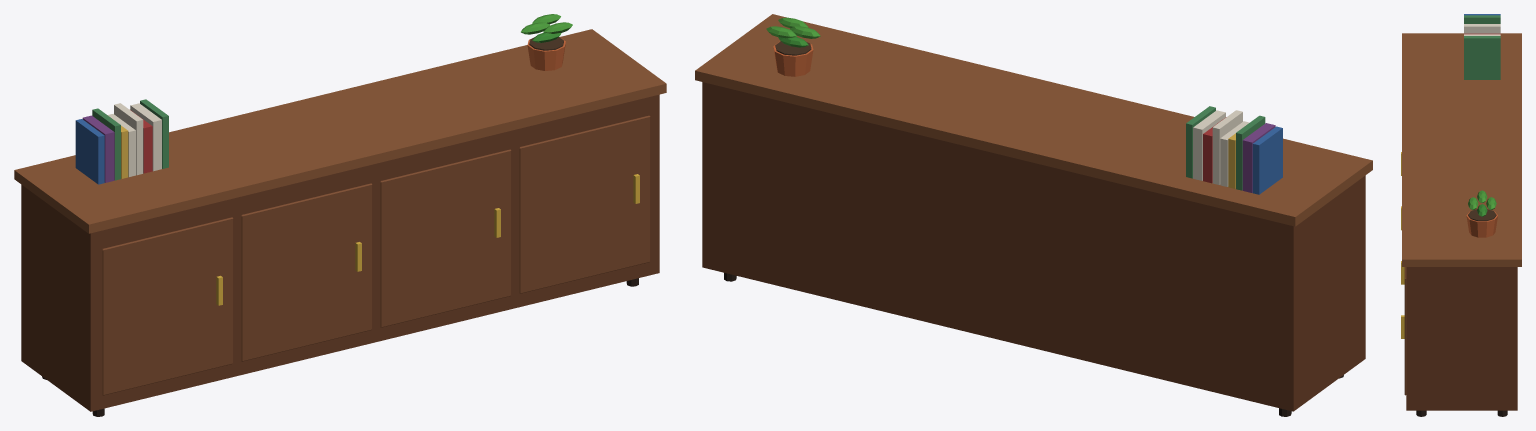
File: sideboard.fbx
The picture shows the model from 3 angles, left to right: view 1: azimuth 30°, elevation 25°; view 2: azimuth 150°, elevation 25°; view 3: azimuth 270°, elevation 25°; orthographic projection. The views are drawn at different scales.
Parts seen in each view (by area): view 1: sideboard; view 2: sideboard; view 3: sideboard.
Part boxes in pixels (box(x1,y1,x2,y2)): sideboard: box(14, 14, 666, 416); sideboard: box(695, 14, 1372, 416); sideboard: box(1401, 14, 1521, 416).
Bounding box in the file's own units: 2.64 × 1.13 × 0.595.
